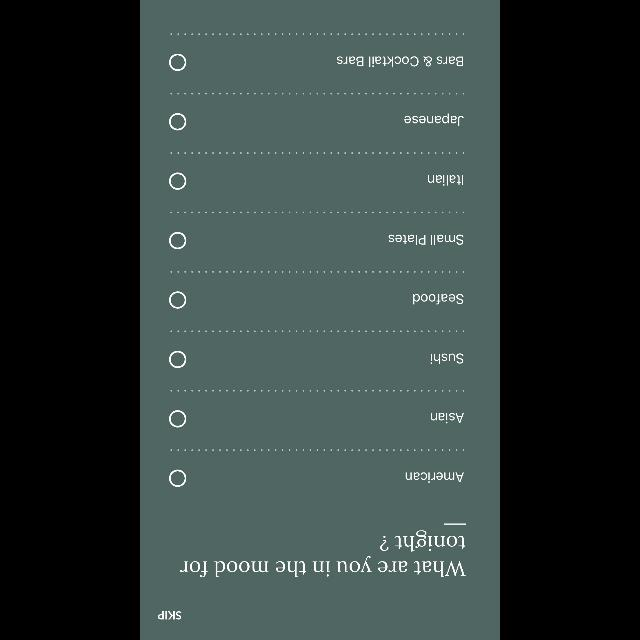checkbox: (170, 410, 187, 428), (170, 350, 187, 368), (170, 291, 187, 309), (170, 172, 187, 190), (170, 113, 187, 131), (170, 53, 187, 71), (170, 469, 187, 486), (170, 232, 187, 248)
text: (180, 530, 466, 576), (337, 56, 463, 68), (388, 234, 464, 246), (404, 114, 464, 126), (405, 472, 463, 482), (412, 294, 463, 304), (428, 174, 462, 186), (431, 412, 464, 423), (431, 352, 464, 363), (158, 611, 182, 619)
